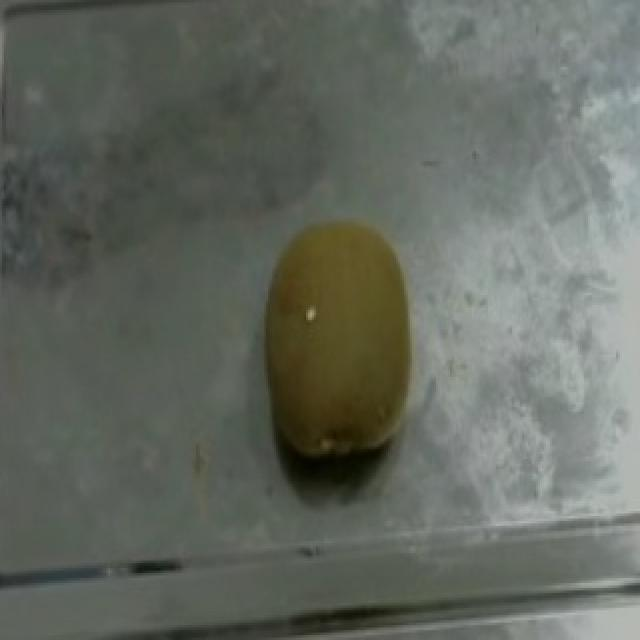Fruit: (238, 208, 440, 476)
